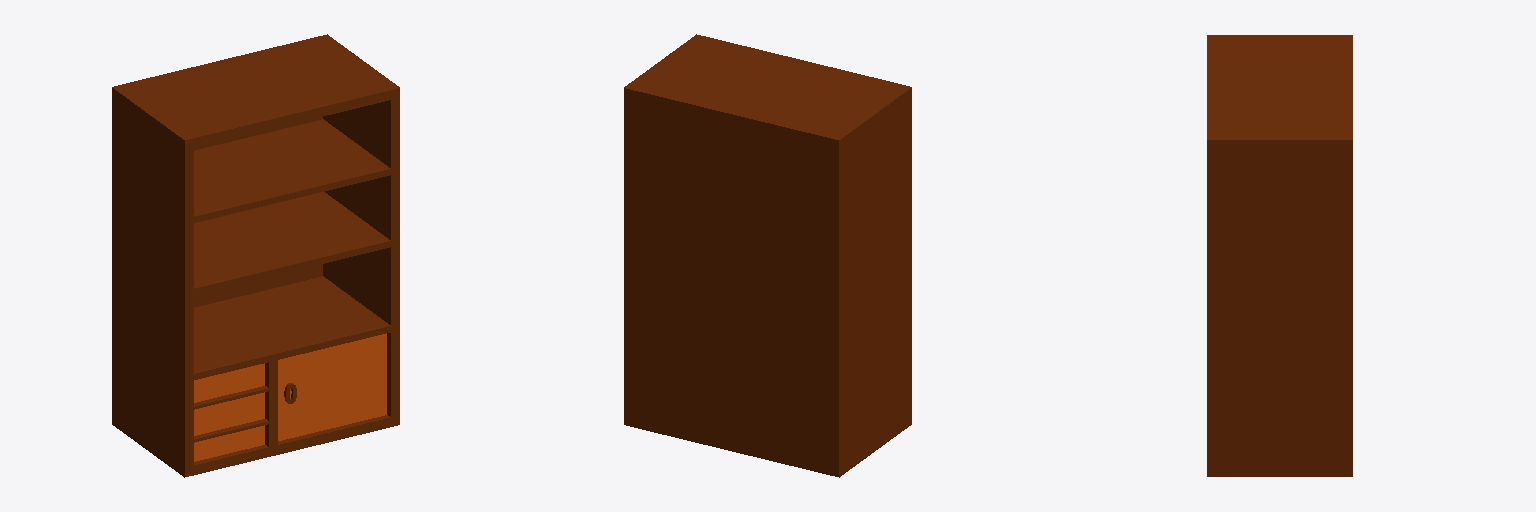
The model's file is bookcase.obj.
3 renders of one model, left to right at view 1: azimuth 30°, elevation 25°; view 2: azimuth 150°, elevation 25°; view 3: azimuth 270°, elevation 25°, orthographic.
Parts seen in each view (by area): view 1: tinker; view 2: tinker; view 3: tinker.
Boxes of the visible parts, x1,y1,x2,y2 form: tinker: [112, 34, 399, 477]; tinker: [624, 34, 911, 477]; tinker: [1207, 35, 1352, 476].
Size of the model in its own units: 69 by 103 by 40.5.